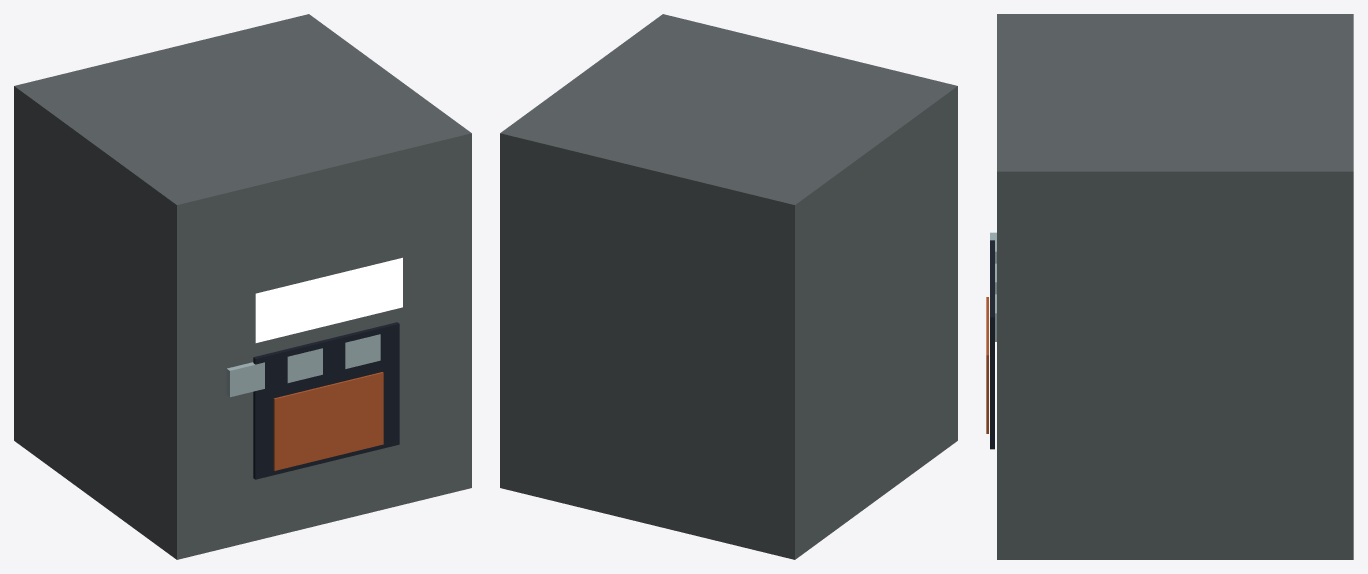
Rendered from crucible_furnace.glb.
3 views of the same model, side by side, from view 1: azimuth 30°, elevation 25°; view 2: azimuth 150°, elevation 25°; view 3: azimuth 270°, elevation 25° (orthographic). The views are drawn at different scales.
Bounding box in the file's own units: 1.47 × 1.69 × 1.45.
Materials: 2 (1 with a texture image).
